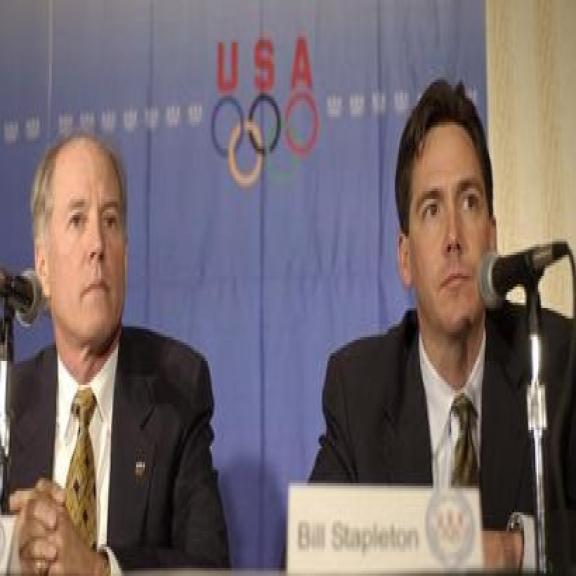face: (398, 124, 499, 338), (35, 152, 136, 349)
